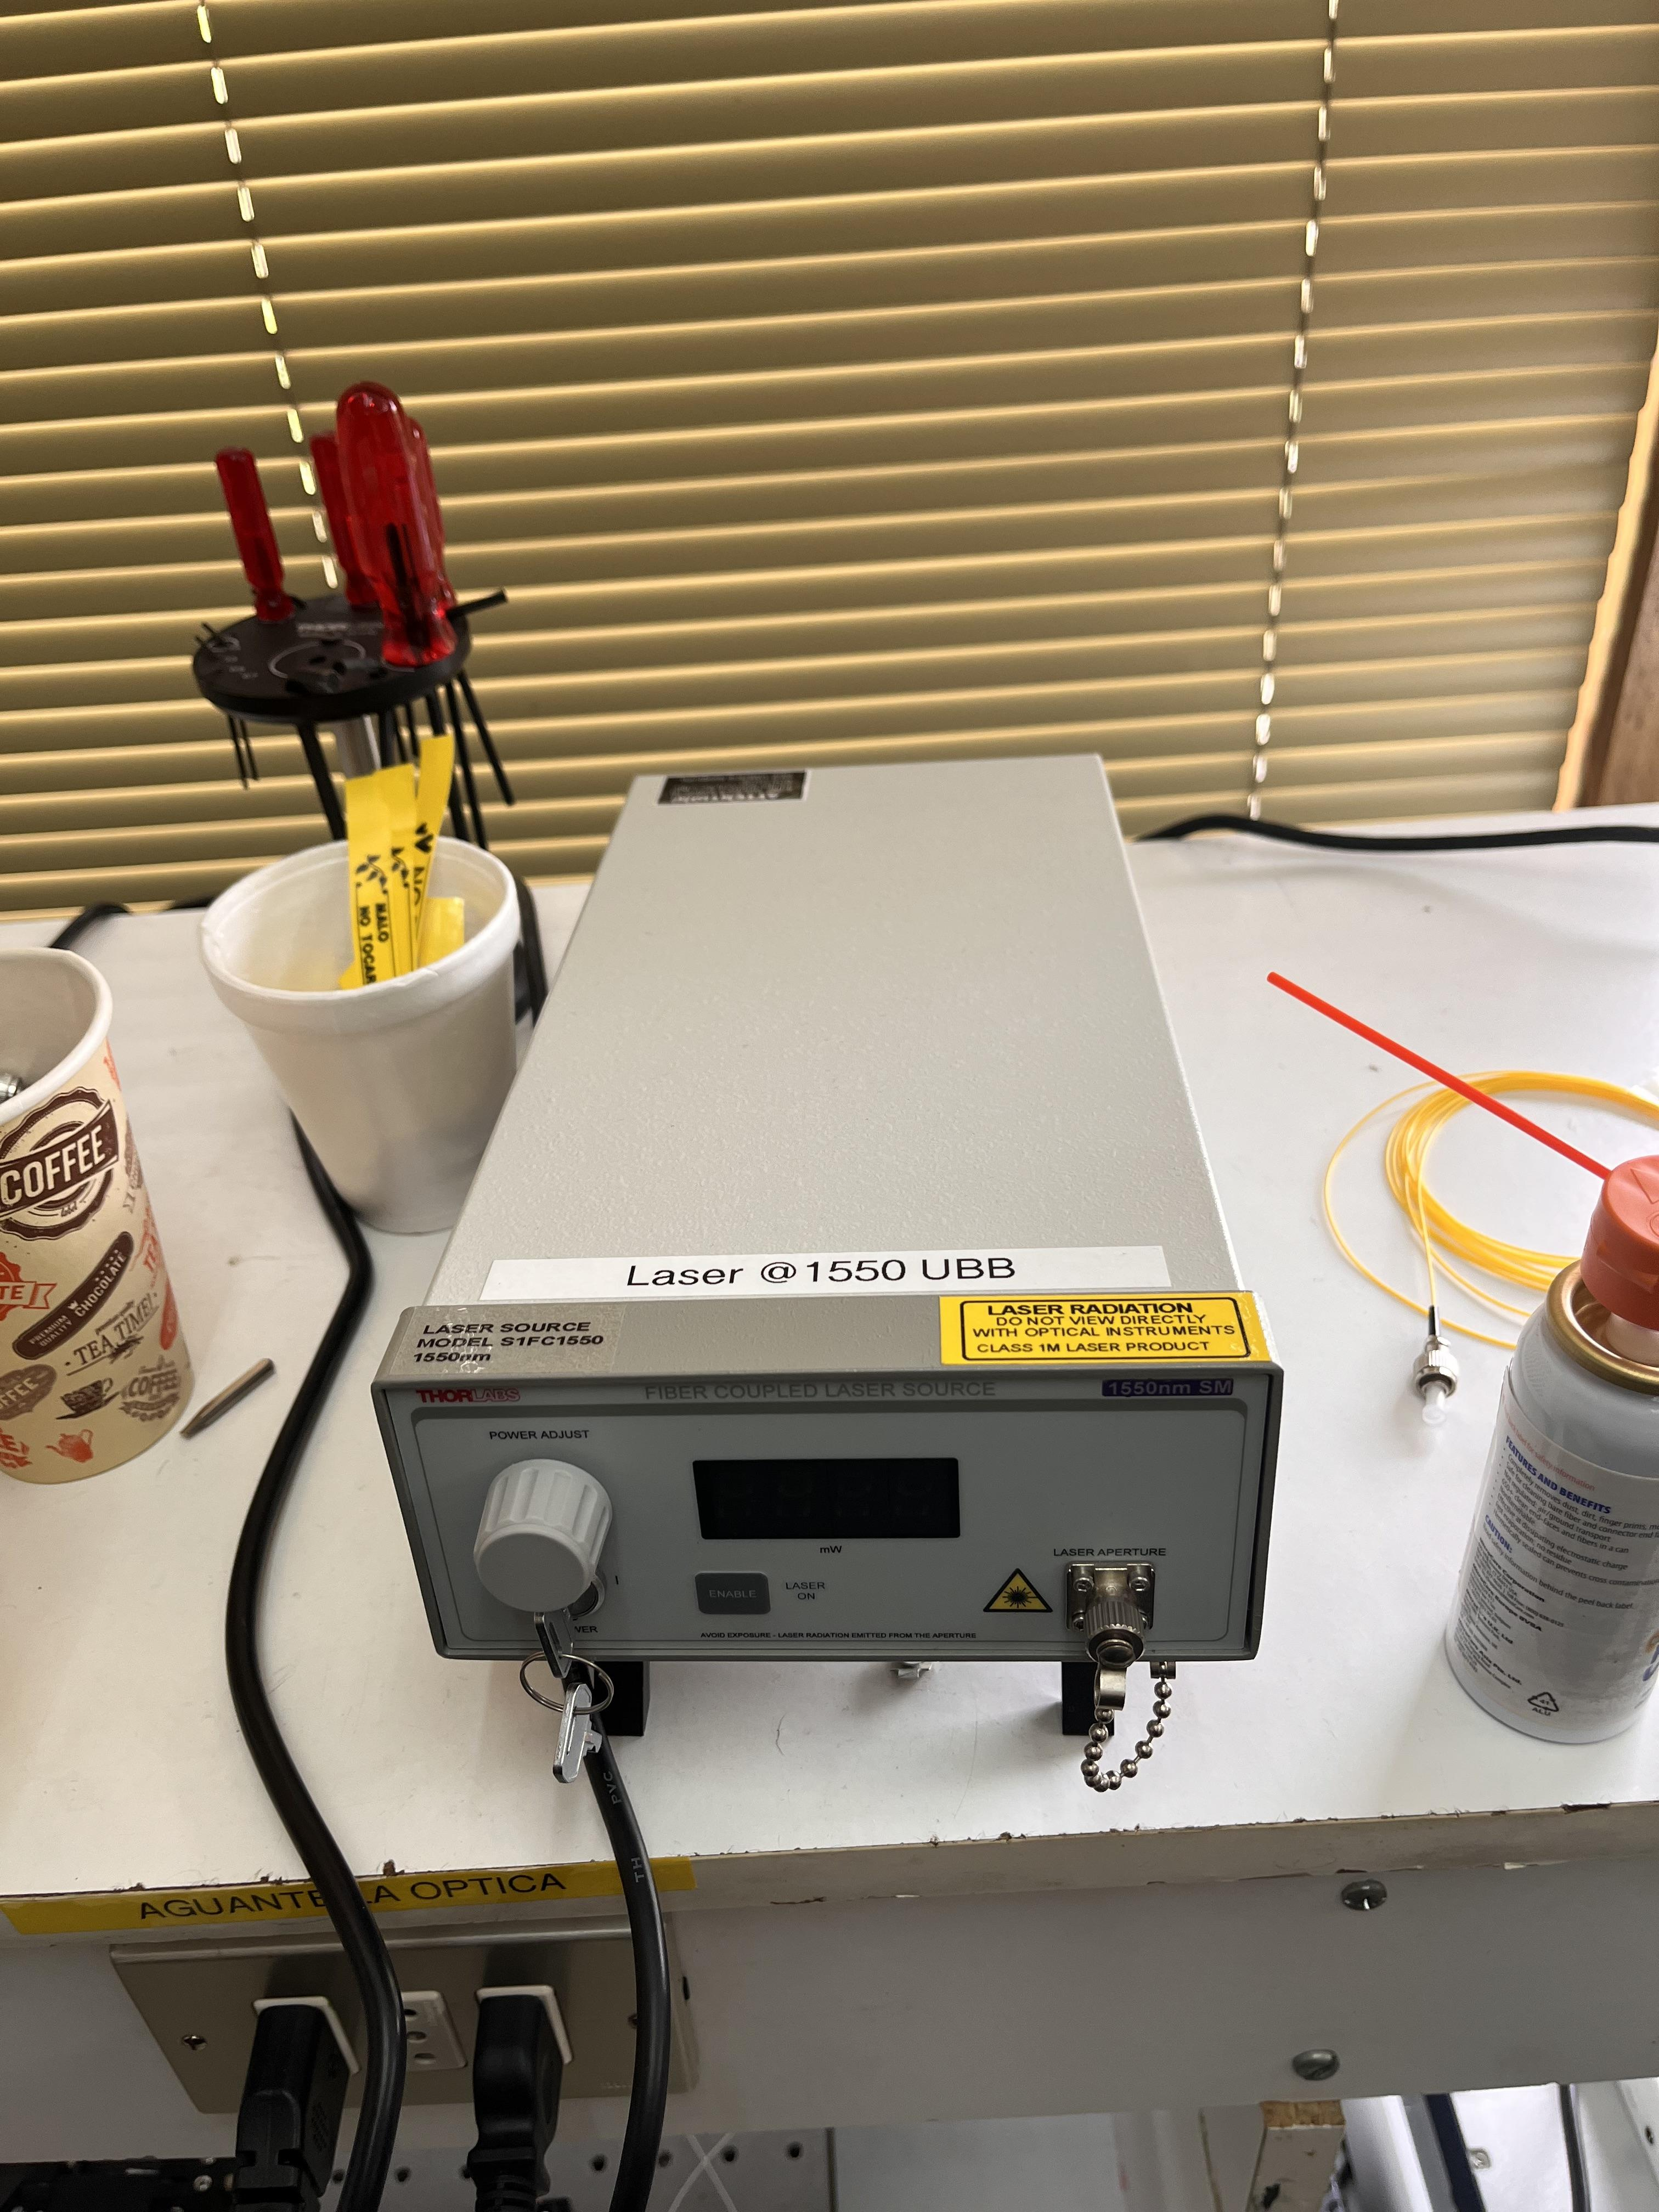laser: (357, 752, 1317, 1693)
